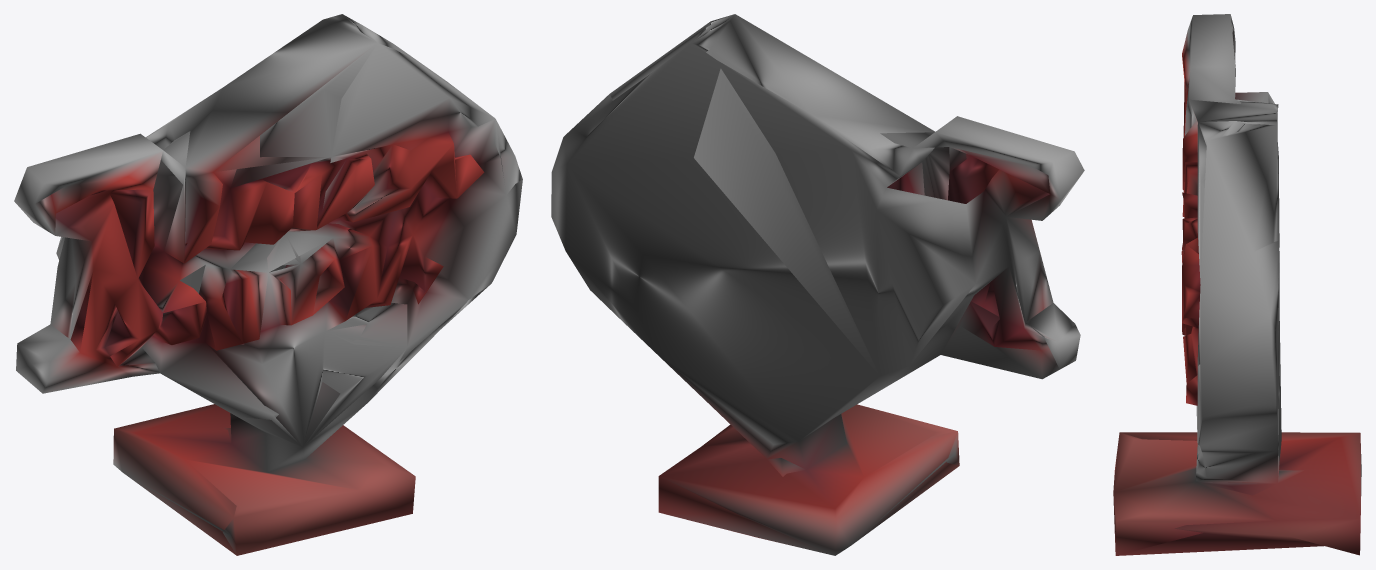
The model's file is gen3d-diner-sign-lod1.glb.
3 renders of one model, left to right at view 1: azimuth 30°, elevation 25°; view 2: azimuth 150°, elevation 25°; view 3: azimuth 270°, elevation 25°, orthographic.
Visible parts, largest first — view 1: part_0; view 2: part_0; view 3: part_0.
Boxes of the visible parts, left/top/right/bottom form: part_0: left=14, top=14, right=522, bottom=555; part_0: left=551, top=14, right=1084, bottom=555; part_0: left=1113, top=14, right=1361, bottom=555.
Bounding box in the file's own units: 1.16 × 0.9929 × 0.5073.
